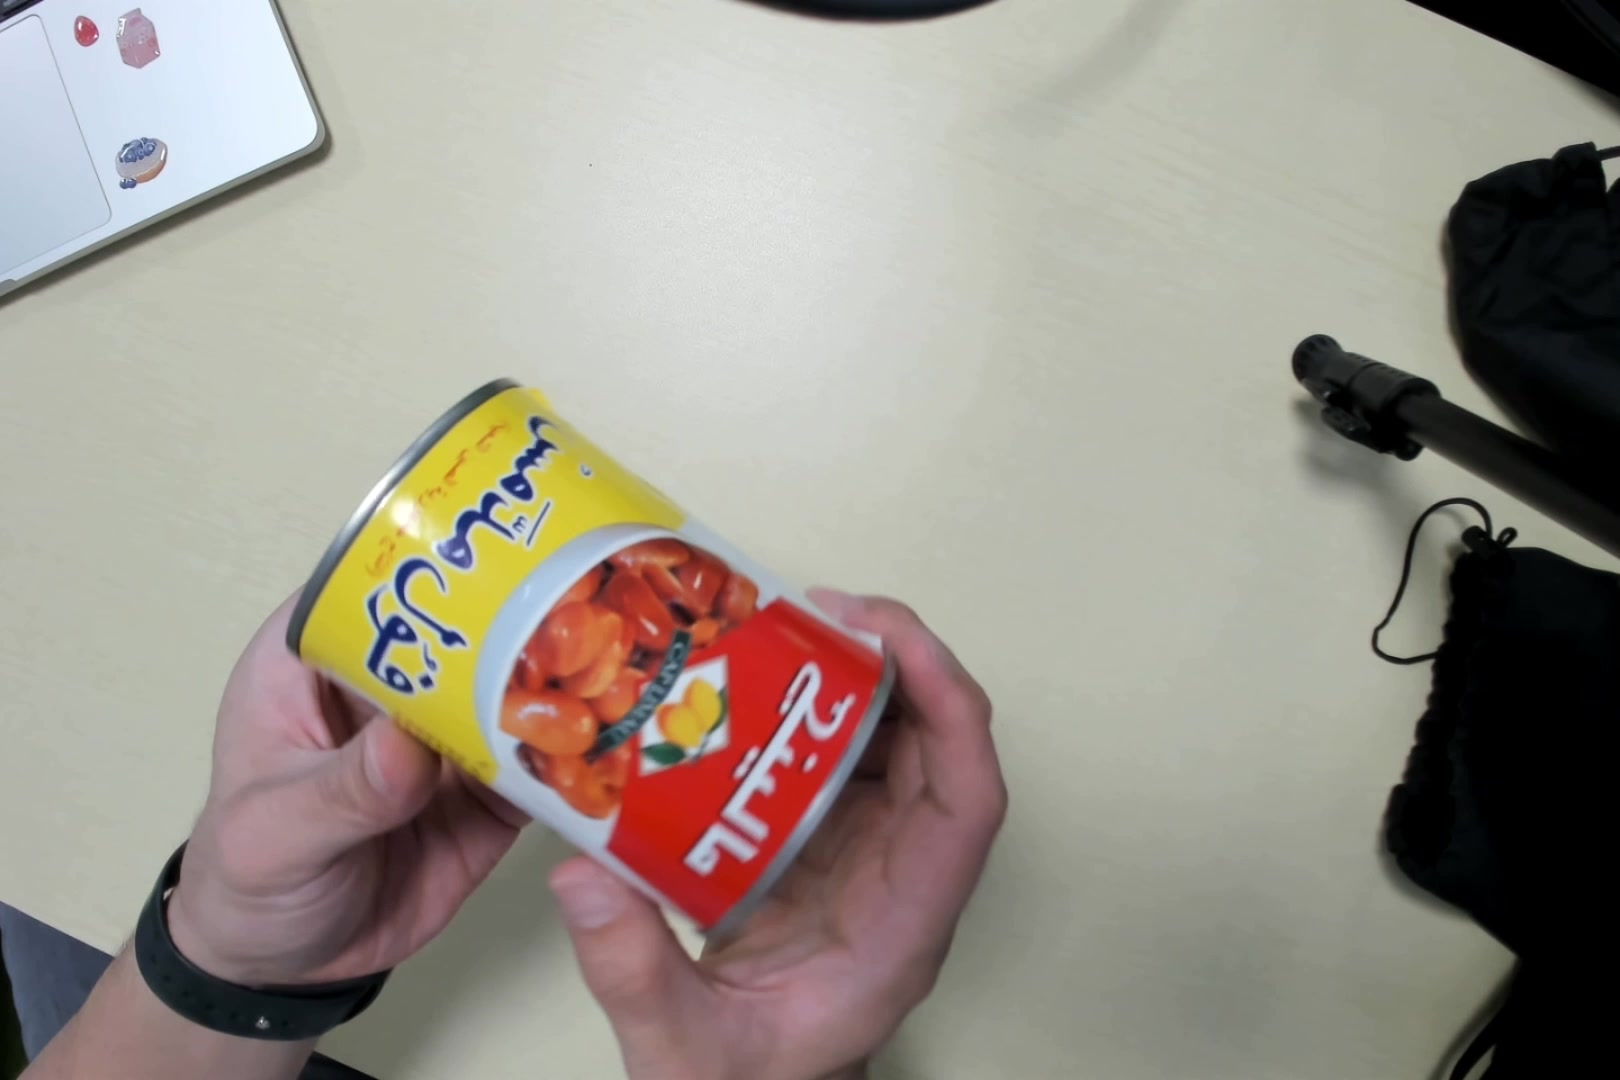OtherCannedBeansPeasPeanuts_400-499g_Halal_NonHealthy: (306, 385, 890, 943)
